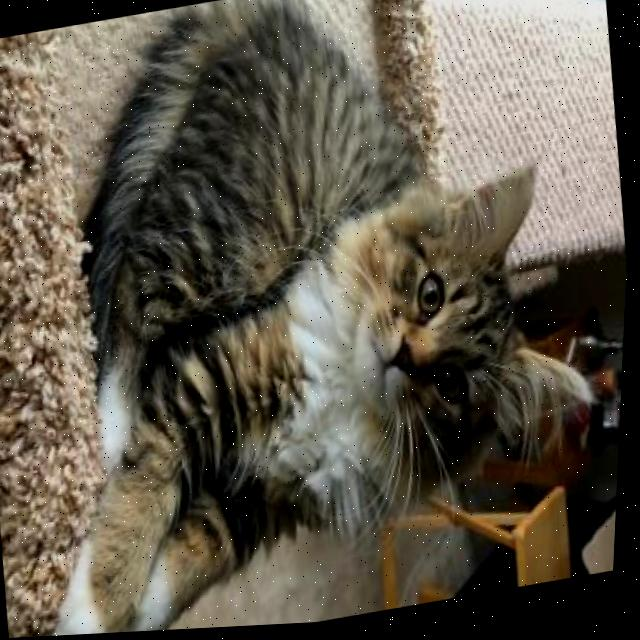Maine Coon: (0, 0, 637, 640)
